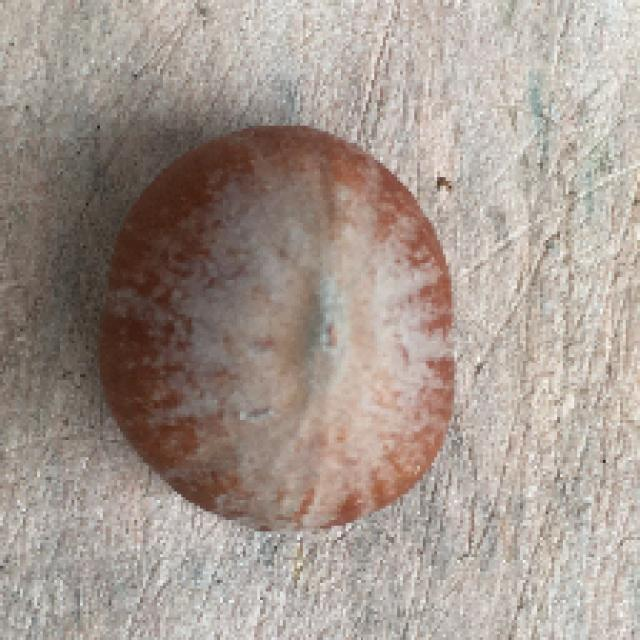qualityHazelnut: (96, 119, 465, 544)
